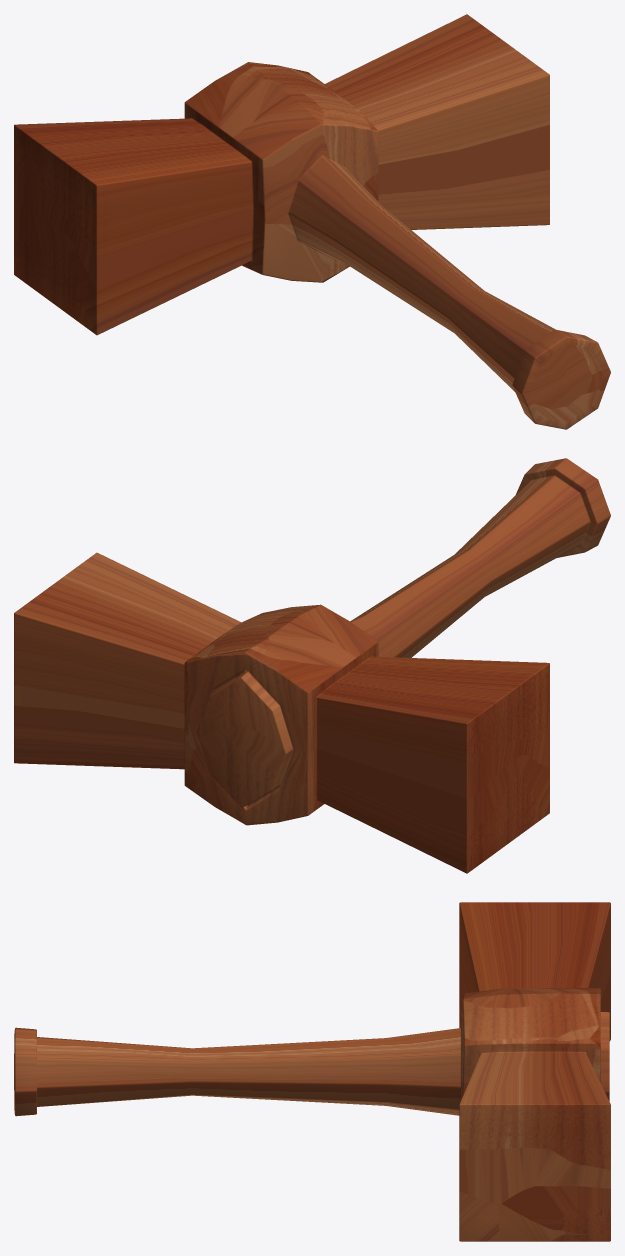
The model's file is martelo.fbx.
3 renders of one model, top to bottom at view 1: azimuth 30°, elevation 25°; view 2: azimuth 150°, elevation 25°; view 3: azimuth 270°, elevation 25°, orthographic. The views are drawn at different scales.
Parts seen in each view (by area): view 1: Cube.015; view 2: Cube.015; view 3: Cube.015.
Part boxes in pixels (left/top/right/bottom): Cube.015: left=14, top=14, right=610, bottom=429; Cube.015: left=14, top=458, right=610, bottom=873; Cube.015: left=14, top=902, right=610, bottom=1241.
Size of the model in its own units: 730 by 265 by 911.
